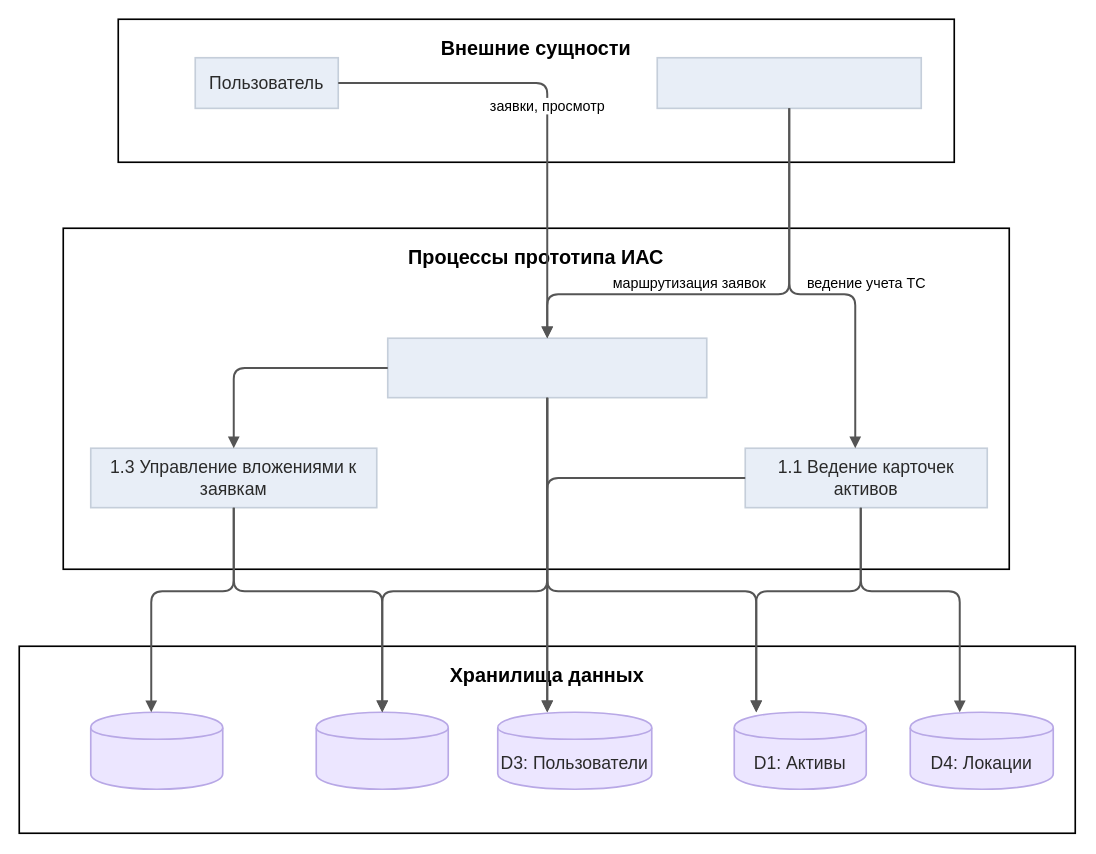
This 1096x854 diagram has some shape labels left out. The centre of each missing label's shape, as x and y in pixels:
"1.2 Регистрация и обработка заявок" goes at pixel 546 367.
"D2: Заявки" goes at pixel 382 750.
"D5: Вложения" goes at pixel 156 750.
"Оператор / Администратор" goes at pixel 789 82.
